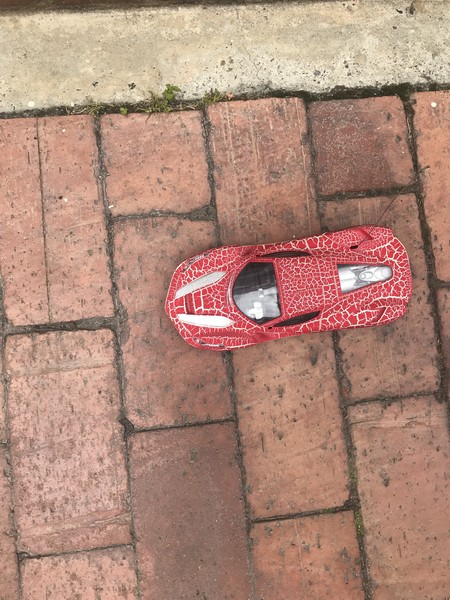RC: (163, 223, 415, 352)
